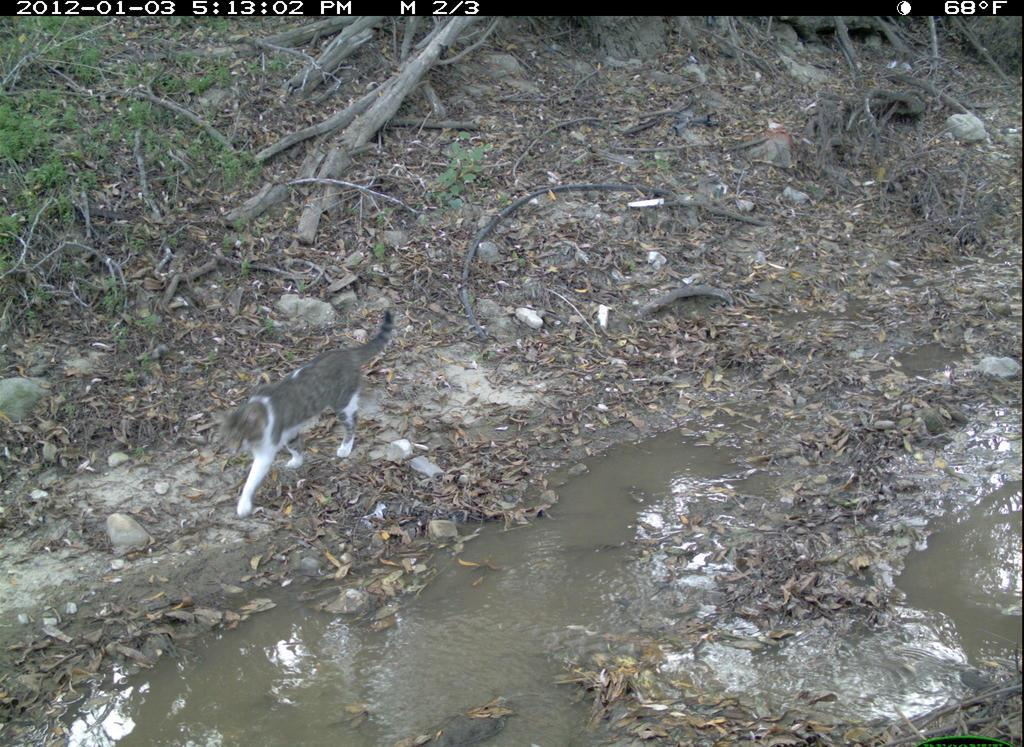cat: (200, 305, 405, 527)
